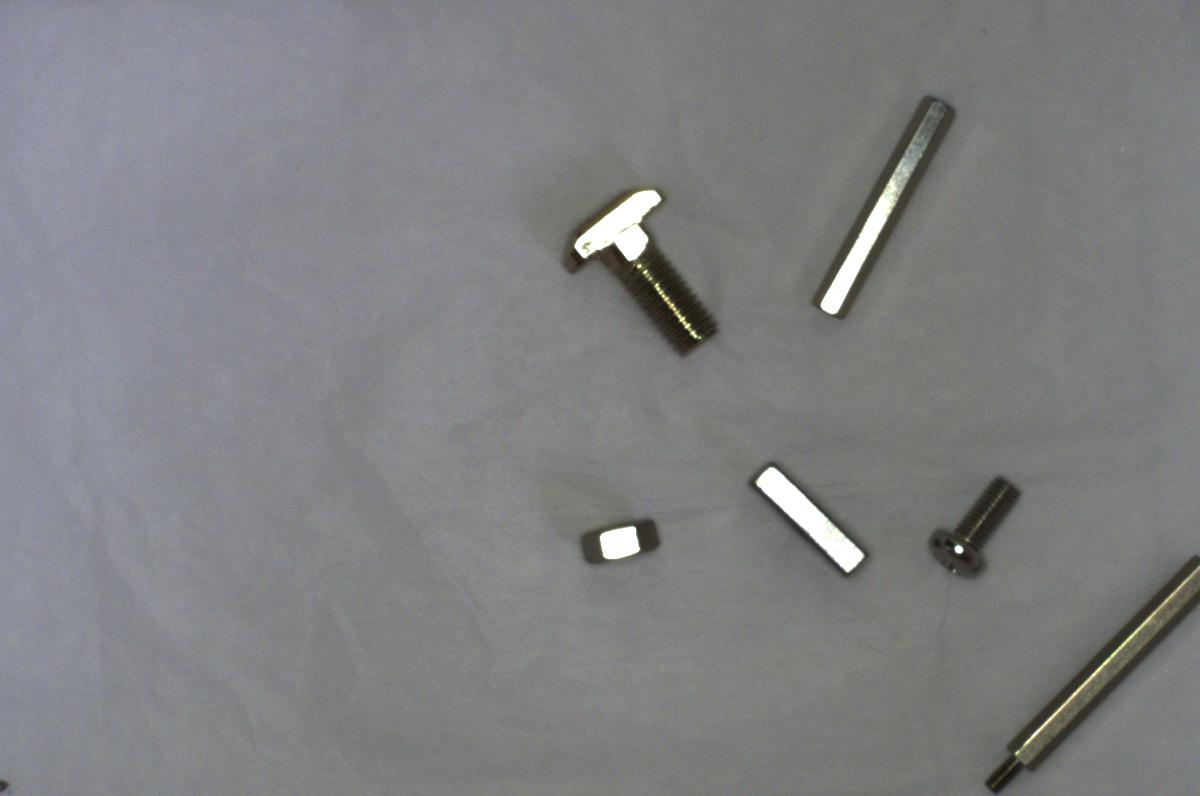Double hexagonal column: (801, 92, 961, 326)
Hexagon nut: (565, 499, 670, 568)
Hexagonal steel column: (985, 534, 1197, 795)
Rectangular nut: (746, 455, 872, 580)
Round head screw: (914, 473, 1032, 581)
T-shaped screw: (548, 187, 720, 359)
